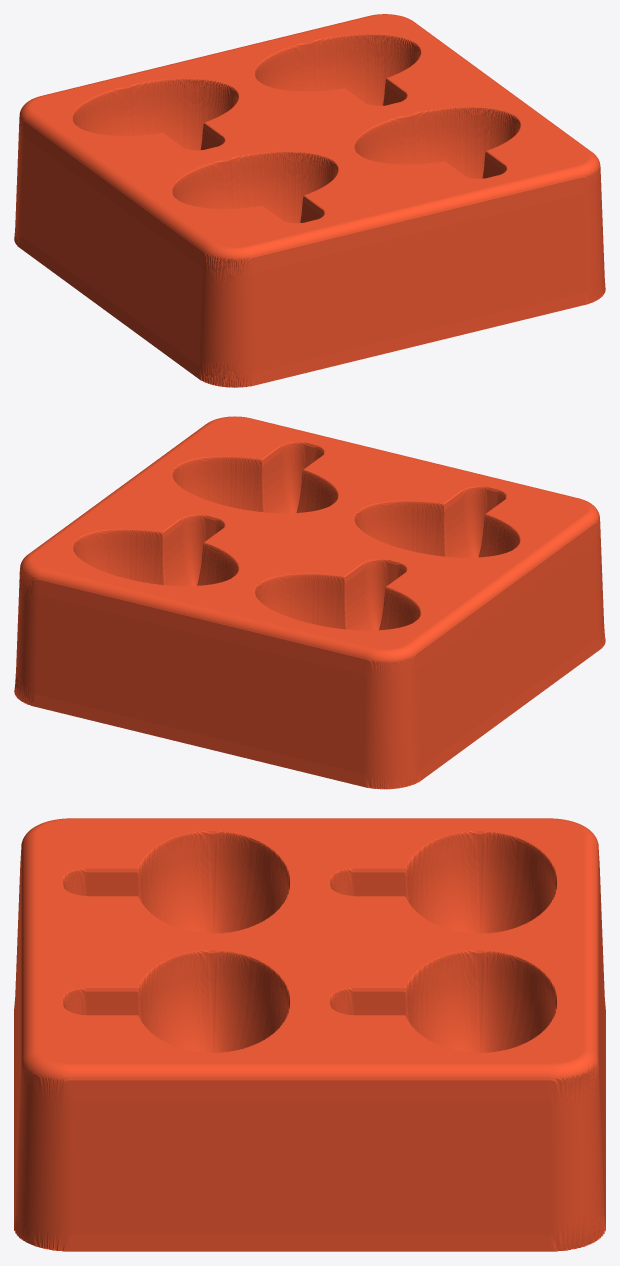
File: mold.glb
3 views of the same model, one above another, from view 1: azimuth 30°, elevation 25°; view 2: azimuth 150°, elevation 25°; view 3: azimuth 270°, elevation 25° (orthographic). The views are drawn at different scales.
Visible parts, largest first — view 1: geometry_0; view 2: geometry_0; view 3: geometry_0.
Part boxes in pixels (x1,y1,x2,y2): geometry_0: (14, 14, 605, 387); geometry_0: (14, 416, 605, 789); geometry_0: (14, 818, 605, 1251).
Size of the model in its own units: 0.0992 by 0.0314 by 0.0944.
